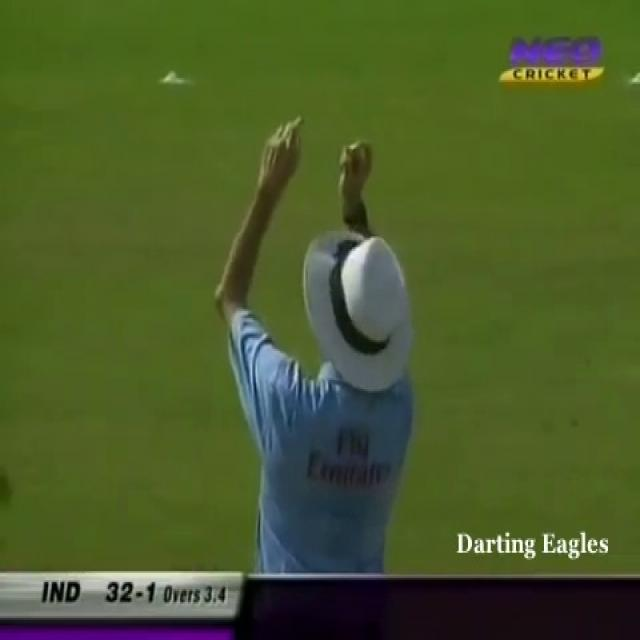Six: (199, 104, 422, 574)
